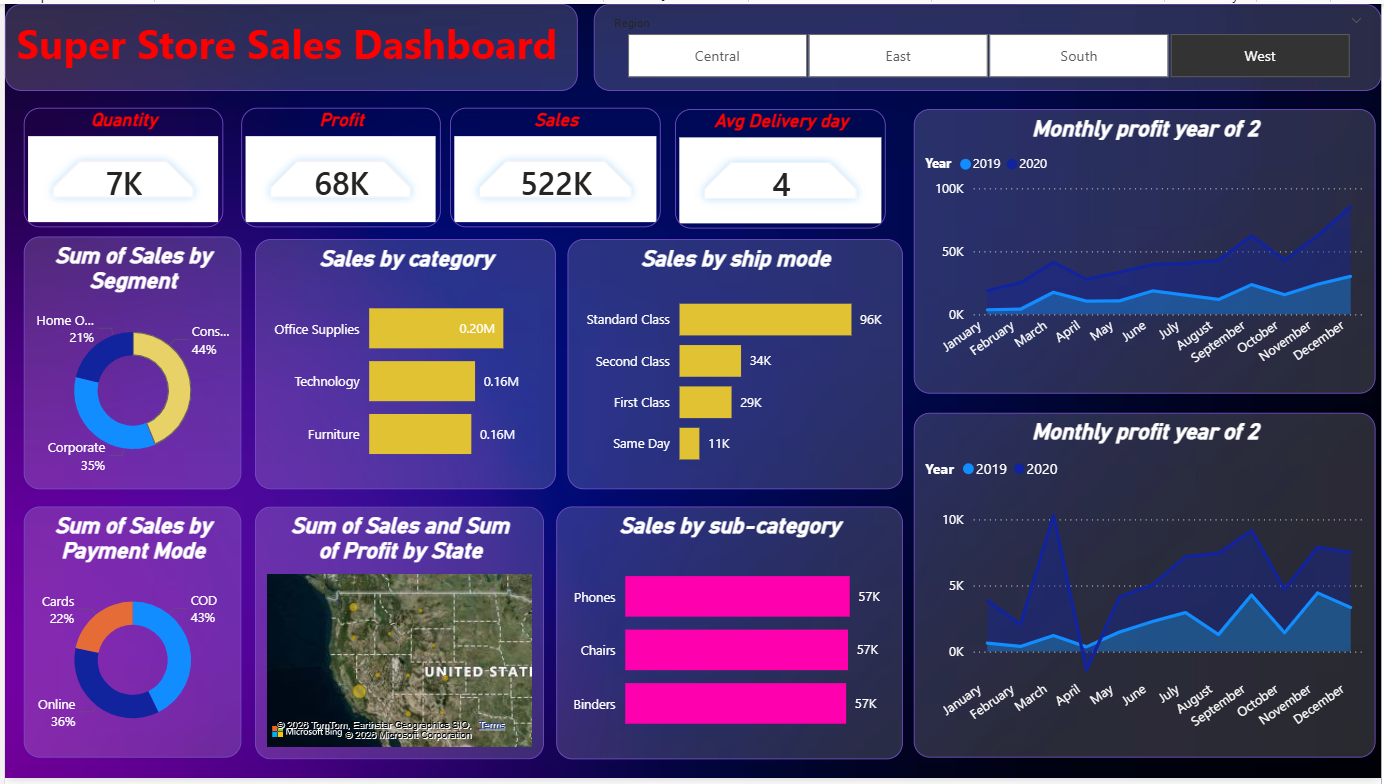

This screenshot's page, from the dashboard's own definition file:
{"tool":"powerbi","page":{"name":"Page 1","canvas":[1280,720],"ordinal":0},"visuals":[{"type":"clusteredBarChart","title":"Sales by category","fields":{"Category":["SuperStore_Sales_Dataset.Category"],"Y":["Sum(SuperStore_Sales_Dataset.Sales)"]},"box":[232.6,218.6,280.2,232.6],"z":0},{"type":"clusteredBarChart","title":"Sales by sub-category","fields":{"Category":["SuperStore_Sales_Dataset.Sub-Category"],"Y":["Sum(SuperStore_Sales_Dataset.Sales)"]},"box":[512.8,467.4,322.1,234.9],"z":1000},{"type":"clusteredBarChart","title":"Sales by ship mode","fields":{"Category":["SuperStore_Sales_Dataset.Ship Mode"],"Y":["Sum(SuperStore_Sales_Dataset.Sales)"]},"box":[523.3,218.6,311.6,232.6],"z":2000},{"type":"stackedAreaChart","title":"Monthly profit year of 2","fields":{"Category":["SuperStore_Sales_Dataset.Order Date.Variation.Date Hierarchy.Month"],"Series":["SuperStore_Sales_Dataset.Order Date.Variation.Date Hierarchy.Year"],"Y":["Sum(SuperStore_Sales_Dataset.Profit)"]},"box":[845.3,380.1,429.5,321.1],"z":4000},{"type":"map","fields":{"Category":["SuperStore_Sales_Dataset.State"],"Size":["Sum(SuperStore_Sales_Dataset.Sales)"]},"box":[232.6,467.4,268.6,234.9],"z":5000},{"type":"donutChart","fields":{"Category":["SuperStore_Sales_Dataset.Segment"],"Y":["Sum(SuperStore_Sales_Dataset.Sales)"]},"box":[17.4,216.3,202.3,234.9],"z":6000},{"type":"donutChart","fields":{"Category":["SuperStore_Sales_Dataset.Payment Mode"],"Y":["Sum(SuperStore_Sales_Dataset.Sales)"]},"box":[17.4,467.4,202.3,233.7],"z":8000},{"type":"slicer","fields":{"Values":["SuperStore_Sales_Dataset.Region"]},"box":[547.5,0,732.8,81],"z":9000},{"type":"textbox","box":[0,0,532.4,81],"z":10000},{"type":"cardVisual","title":"Profit","fields":{"Data":["Sum(SuperStore_Sales_Dataset.Profit)"]},"box":[219.6,96.1,185.2,111.1],"z":11000},{"type":"cardVisual","title":"Sales","fields":{"Data":["Sum(SuperStore_Sales_Dataset.Sales)"]},"box":[414.4,96.1,196.2,111.1],"z":11001},{"type":"cardVisual","title":"Quantity","fields":{"Data":["Sum(SuperStore_Sales_Dataset.Quantity)"]},"box":[17.8,96.1,185.2,111.1],"z":11002},{"type":"cardVisual","title":"Avg Delivery day","fields":{"Data":["Avg(SuperStore_Sales_Dataset.AvgDay)"]},"box":[623,97.4,196.2,111.1],"z":11003},{"type":"stackedAreaChart","title":"Monthly profit year of 2","fields":{"Category":["SuperStore_Sales_Dataset.Order Date.Variation.Date Hierarchy.Month"],"Series":["SuperStore_Sales_Dataset.Order Date.Variation.Date Hierarchy.Year"],"Y":["Sum(SuperStore_Sales_Dataset.Sales)"]},"box":[845.3,97.4,429.5,264.8],"z":11004}]}

Visuals, with their boxes in screenshot pixels (x1, y1, x2, y2), scaled from the page's 1280x720 canvas onto the 1384x784 screenshot:
"Sales by category" clusteredBarChart: rect(251, 238, 554, 491)
"Sales by sub-category" clusteredBarChart: rect(554, 509, 903, 765)
"Sales by ship mode" clusteredBarChart: rect(566, 238, 903, 491)
"Monthly profit year of 2" stackedAreaChart: rect(914, 414, 1378, 764)
map - SuperStore_Sales_Dataset.State x Sum(SuperStore_Sales_Dataset.Sales): rect(251, 509, 542, 765)
donutChart - SuperStore_Sales_Dataset.Segment x Sum(SuperStore_Sales_Dataset.Sales): rect(19, 236, 238, 491)
donutChart - SuperStore_Sales_Dataset.Payment Mode x Sum(SuperStore_Sales_Dataset.Sales): rect(19, 509, 238, 763)
slicer - SuperStore_Sales_Dataset.Region: rect(592, 0, 1383, 88)
textbox: rect(0, 0, 576, 88)
"Profit" cardVisual: rect(237, 105, 438, 226)
"Sales" cardVisual: rect(448, 105, 660, 226)
"Quantity" cardVisual: rect(19, 105, 219, 226)
"Avg Delivery day" cardVisual: rect(674, 106, 886, 227)
"Monthly profit year of 2" stackedAreaChart: rect(914, 106, 1378, 394)
